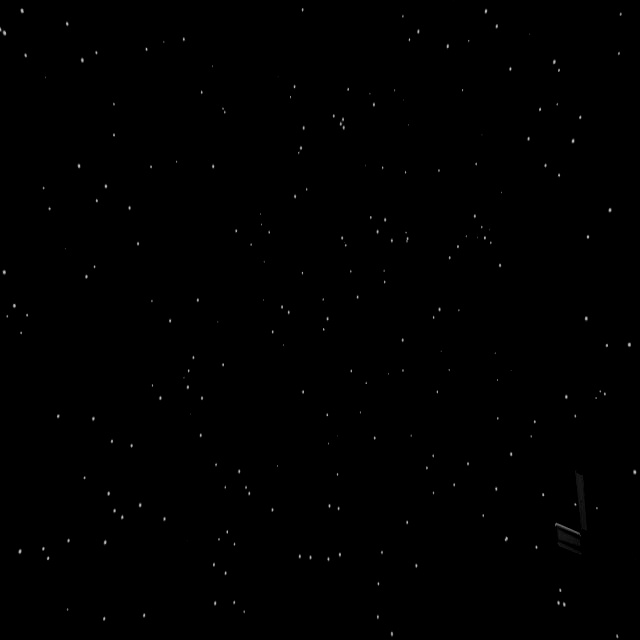medium_debris: (550, 466, 636, 581)
